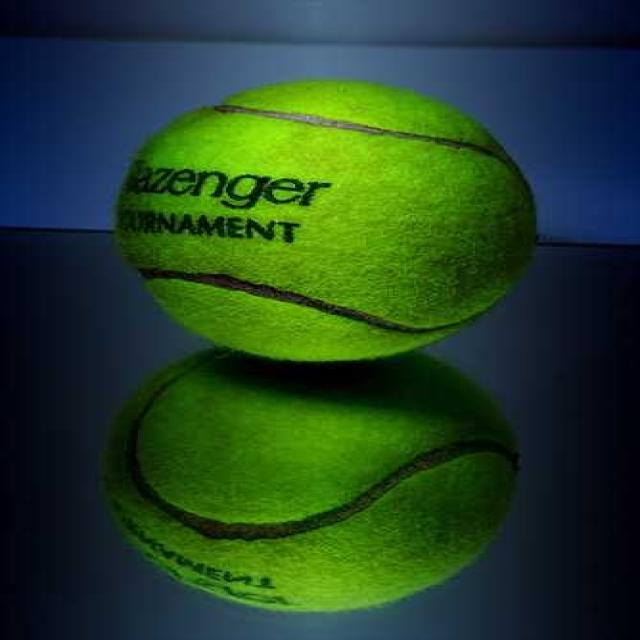Tennis_Ball: (119, 78, 536, 374)
